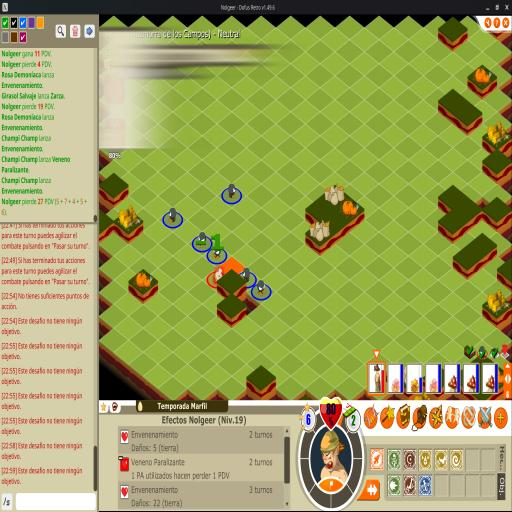Enemigos: (257, 280, 267, 296), (212, 244, 221, 261), (228, 182, 237, 198), (168, 207, 177, 223), (242, 267, 251, 283), (198, 232, 206, 248)
Personaje: (212, 267, 225, 283)
